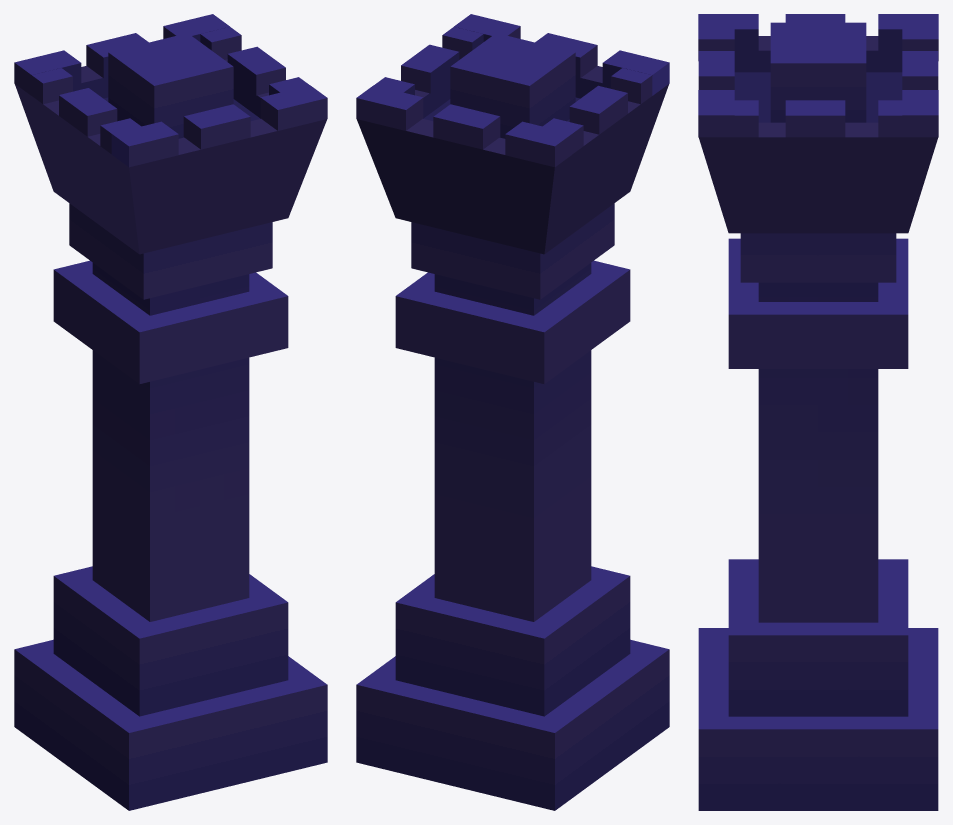
Rendered from Queen Black.gltf.
3 renders of one model, left to right at view 1: azimuth 30°, elevation 25°; view 2: azimuth 150°, elevation 25°; view 3: azimuth 270°, elevation 25°, orthographic. The views are drawn at different scales.
Parts seen in each view (by area): view 1: cube (×18); view 2: cube (×18); view 3: cube (×19).
Boxes of the visible parts, <box> form: cube (×18): <box>14,14,327,810</box>; cube (×18): <box>356,14,669,810</box>; cube (×19): <box>698,14,938,810</box>.
Size of the model in its own units: 0.1251 by 0.4125 by 0.1251.
1 material, 1 textured.
